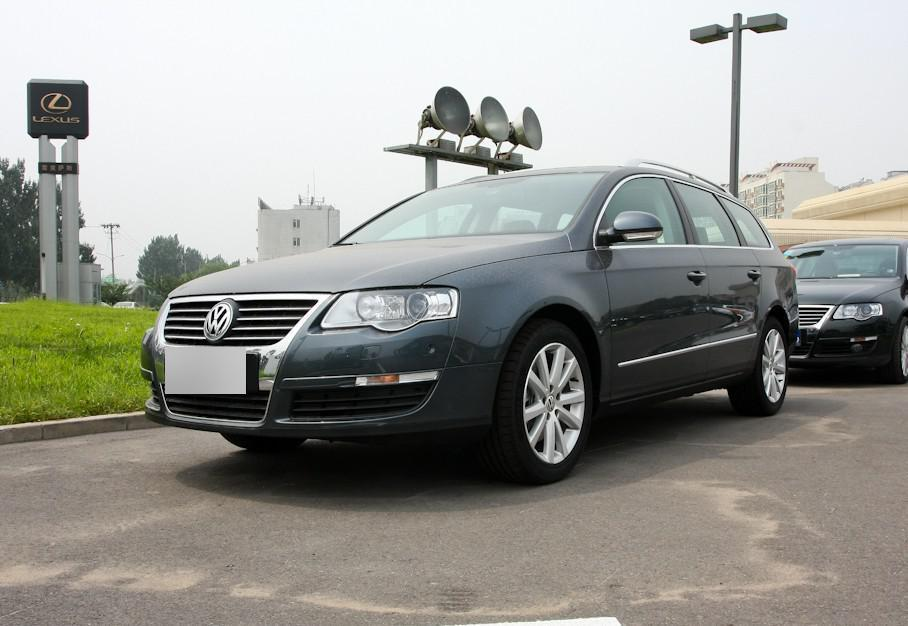Wagon: (138, 164, 800, 489)
